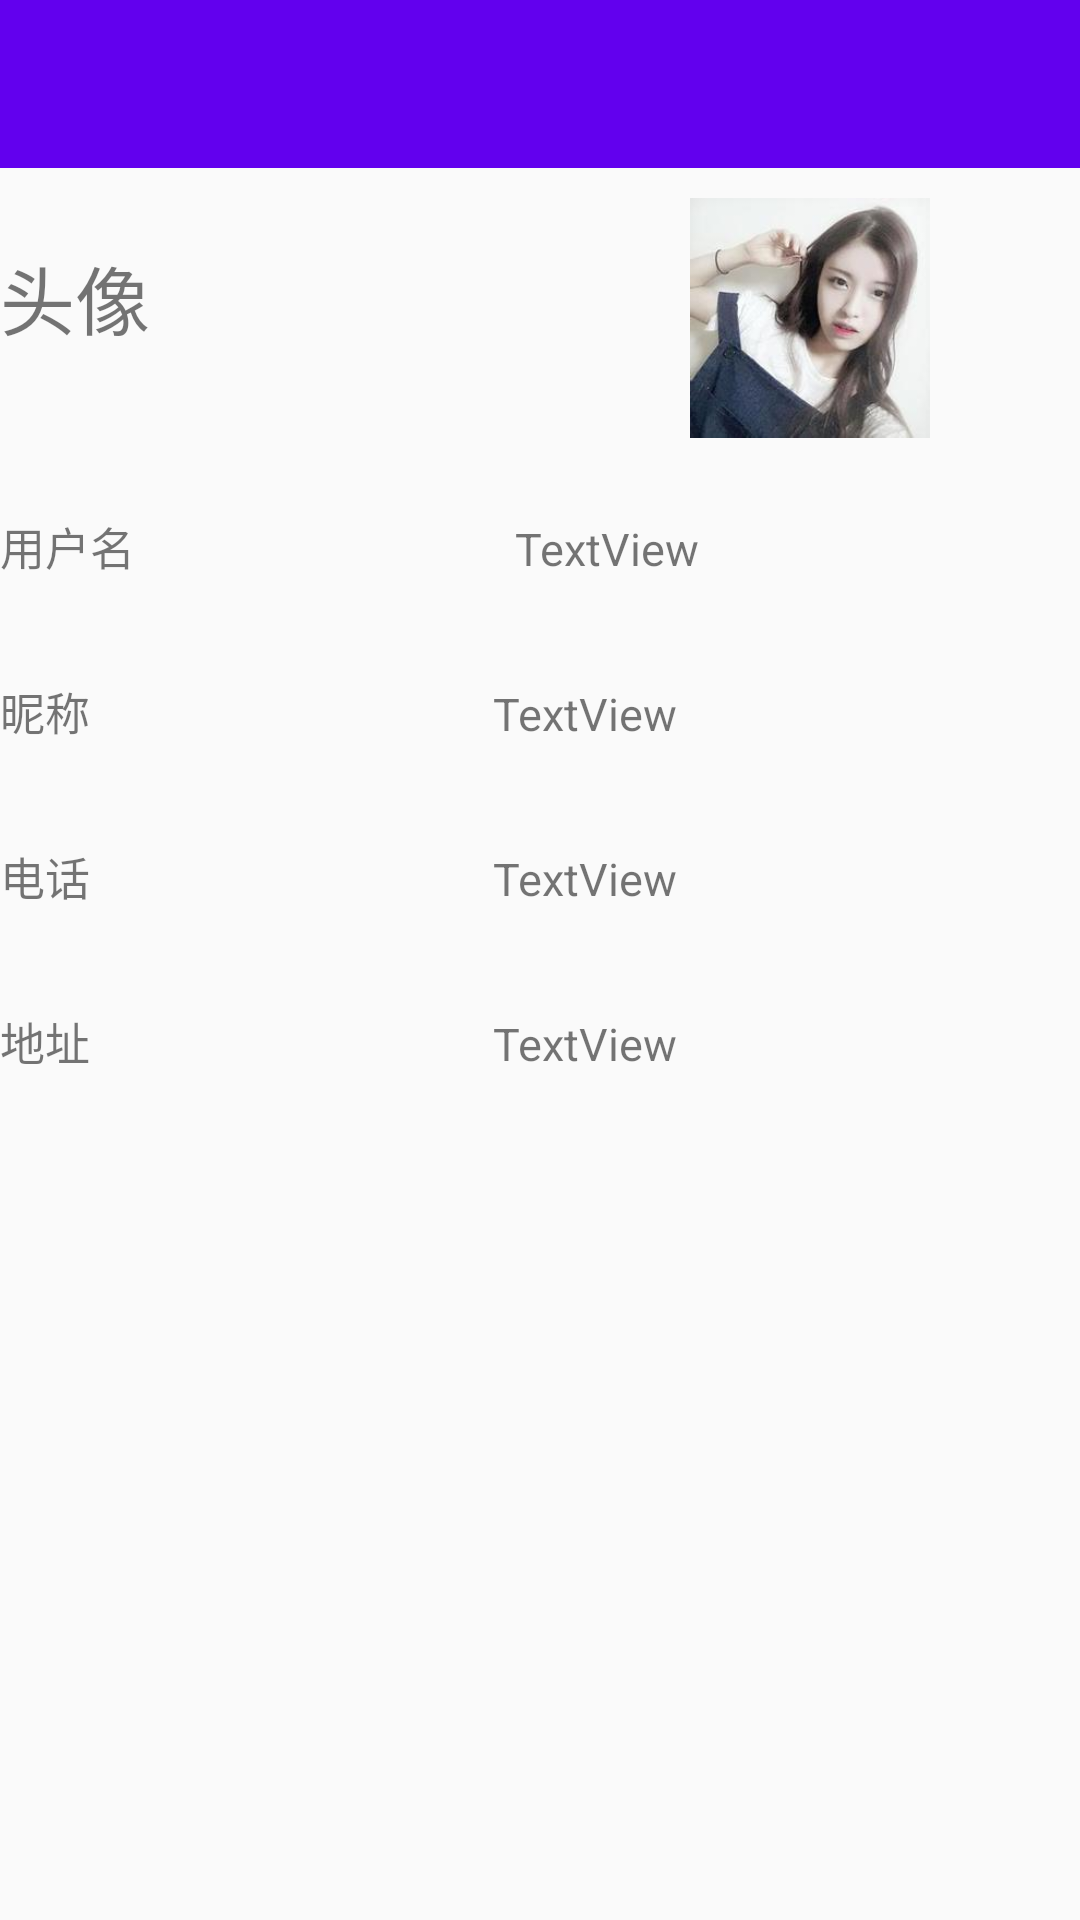

Locate icon controls on the screen. Image size 1080x1920, boxes as (x1, y1, x2, y2).
meimei: (690, 205, 918, 438)
